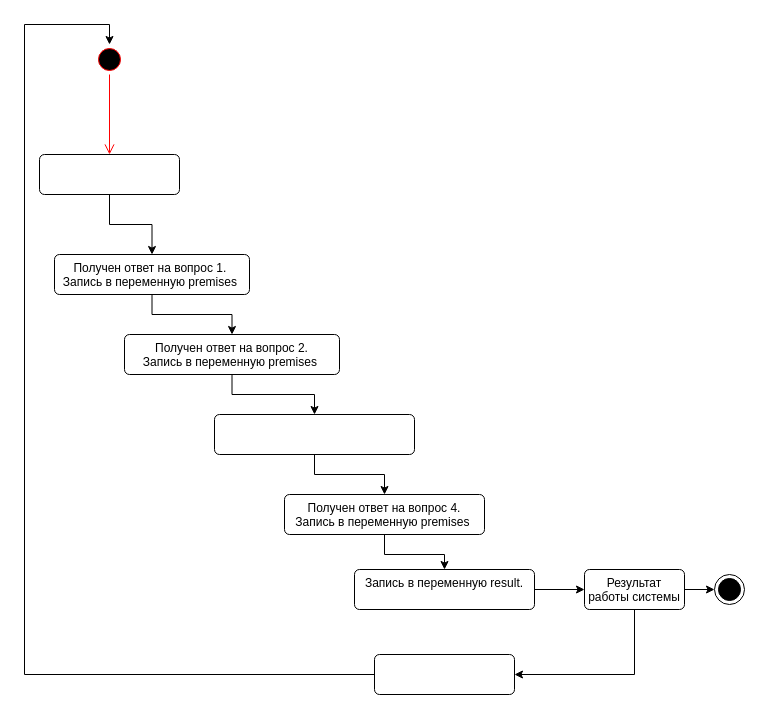
Image size: 762x712. Some labels were removed from this diagram. The shapes that lost their labels are listed below. From the top down, each one's centre as x and y in pixels, then its label:
pixel 109 174: Стартовый интерфейс показан пользователю.
pixel 314 434: Получен ответ на вопрос 3. Запись в переменную premises
pixel 444 674: Перезапуск системы
